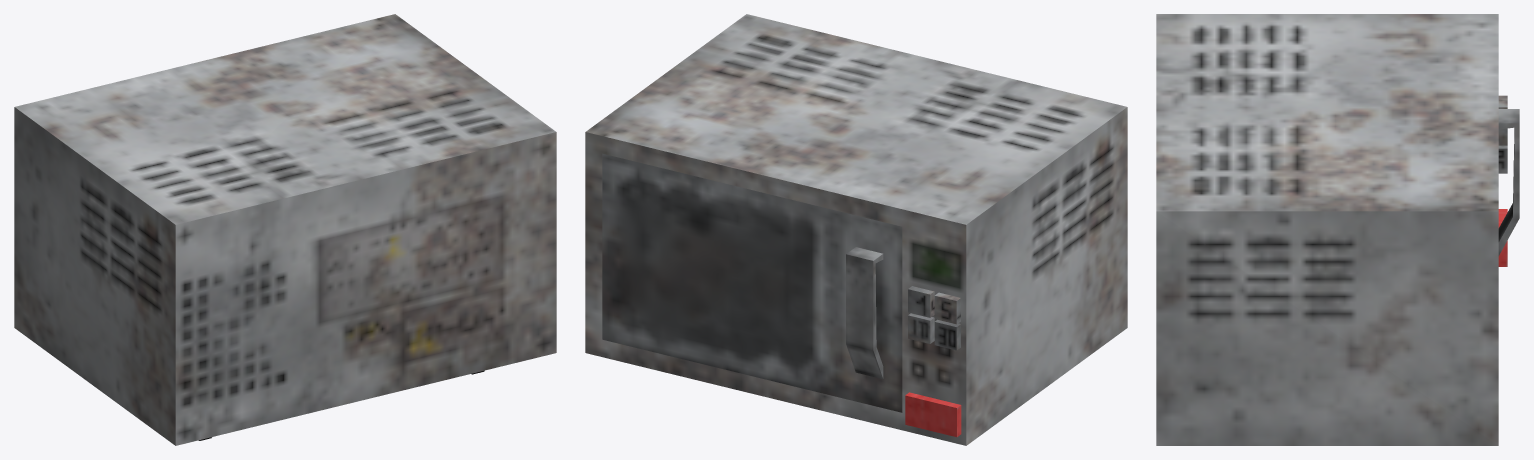
The model's file is Microwave.fbx.
3 views of the same model, side by side, from view 1: azimuth 30°, elevation 25°; view 2: azimuth 150°, elevation 25°; view 3: azimuth 270°, elevation 25° (orthographic). The views are drawn at different scales.
Parts seen in each view (by area): view 1: Body; view 2: Body, Door, Stop, 1, 5, 10, 30; view 3: Body, Door.
Boxes of the visible parts, x1=… form: Body: x1=14, y1=14, x2=556, y2=445; Body: x1=585, y1=14, x2=1127, y2=445; Door: x1=602, y1=153, x2=902, y2=412; Stop: x1=905, y1=392, x2=961, y2=437; 1: x1=908, y1=286, x2=934, y2=317; 5: x1=934, y1=292, x2=960, y2=324; 10: x1=908, y1=313, x2=934, y2=343; 30: x1=934, y1=319, x2=960, y2=350; Body: x1=1156, y1=14, x2=1498, y2=445; Door: x1=1498, y1=109, x2=1519, y2=255.
Bounding box in the file's own units: 68.6 × 53.37 × 41.7.
1 material, 1 textured.
